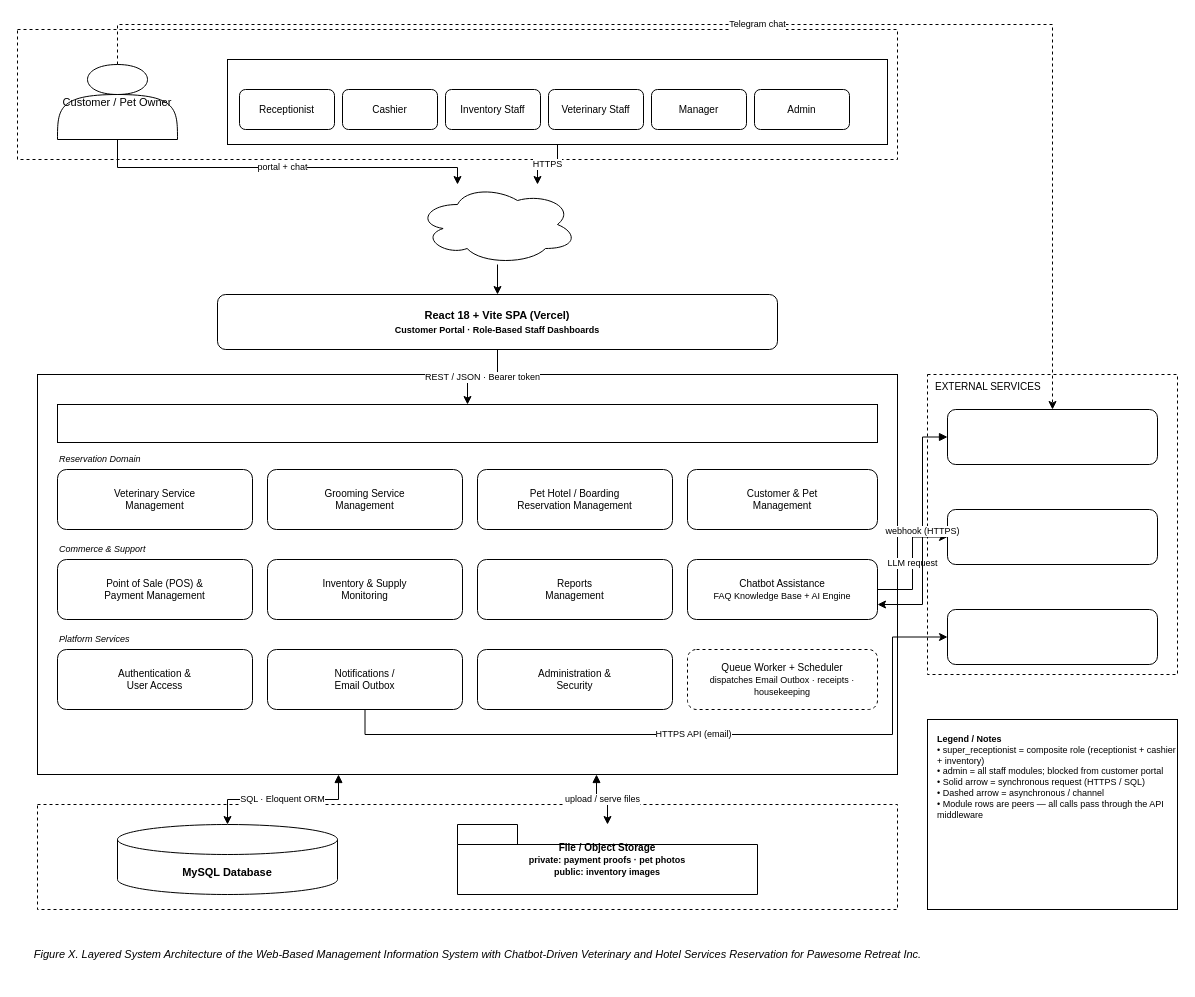
Some shapes in this 1195 by 997 pixel diagram are drawn without their labels. Each missing label, with the box of its shape:
API Middleware — Sanctum Token Auth · RBAC · Email-Verified Gate · CORS: (56, 404, 878, 442)
Brevo Transactional Email API: (946, 608, 1158, 664)
DATA TIER: (36, 804, 898, 910)
Groq / Gemini LLM API (chatbot reasoning): (946, 508, 1158, 564)
INTERNET HTTPS / TLS: (416, 184, 578, 264)
LARAVEL 12 API — APPLICATION TIER (Railway): (36, 374, 898, 774)
Staff Roles: (226, 58, 888, 144)
Telegram Bot API customer chat channel: (946, 408, 1158, 464)
USERS / ACTORS: (16, 28, 898, 160)
